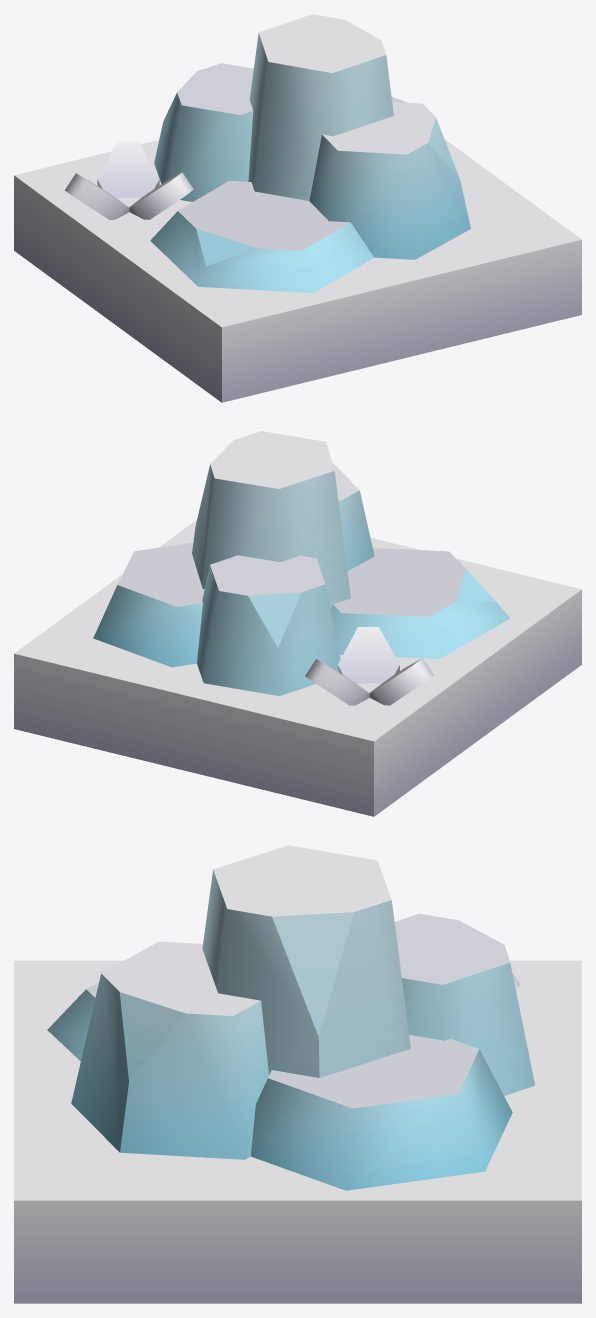
File: snow-tile-hill.fbx
3 renders of one model, top to bottom at view 1: azimuth 30°, elevation 25°; view 2: azimuth 150°, elevation 25°; view 3: azimuth 270°, elevation 25°, orthographic. The views are drawn at different scales.
Visible parts, largest first — view 1: snow-tile-hill; view 2: snow-tile-hill; view 3: snow-tile-hill.
Boxes of the visible parts, box(x1,y1,x2,y2) form: snow-tile-hill: box(14, 14, 581, 402); snow-tile-hill: box(14, 431, 581, 816); snow-tile-hill: box(14, 845, 581, 1303).
Bounding box in the file's own units: 100 × 61.45 × 100.
